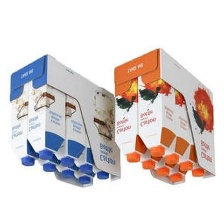carton: (138, 72, 175, 158), (26, 83, 65, 162), (6, 83, 39, 168), (114, 83, 148, 164), (161, 88, 192, 165), (54, 92, 84, 166)
